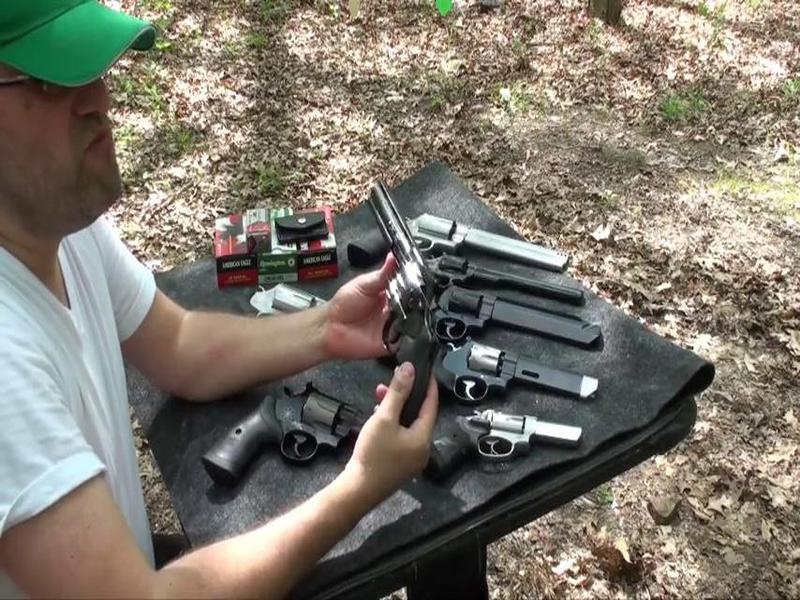Revolver: (323, 152, 458, 419)
